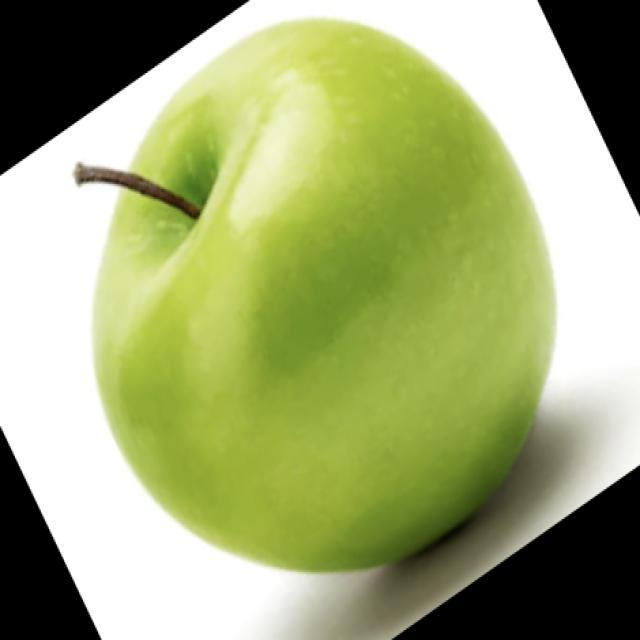Apple: (72, 16, 558, 574)
